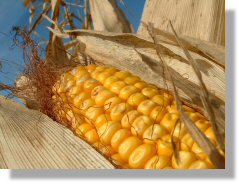corn: (48, 62, 225, 169)
